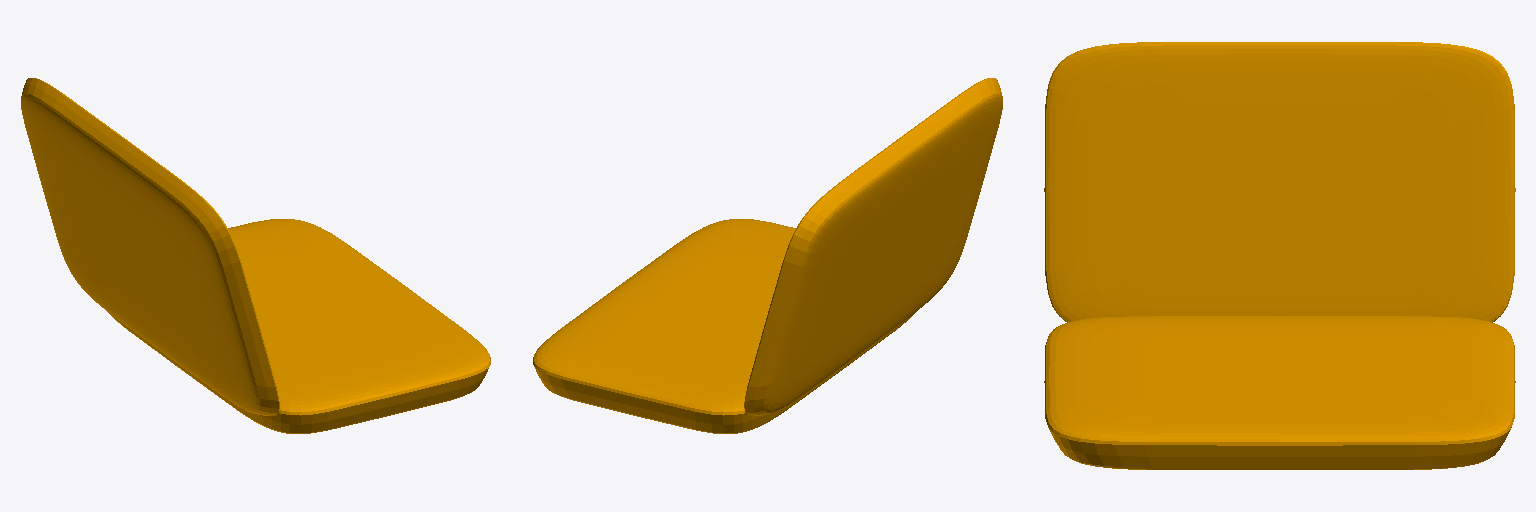
The robot description file, URDF, robot "object_441205746":

		<robot name="object_441205746">
			<link name="link_object_441205746">
				<visual>
					<geometry>
						<mesh filename="temp_object_441205746.obj" />
					</geometry>
				</visual>

				<collision>
					<geometry>
						<mesh filename="temp_object_441205746.obj" />
					</geometry>
				</collision>
				
				<inertial>
					<origin rpy="0 0 0" xyz="0 0 0"/>
					<mass value="0.3" />
					<inertia ixx="0.3" ixy="0" ixz="0" iyy="0.3" iyz="0" izz="0.3" />
				</inertial>
			</link>
		</robot>
		

--- Render facts (derived) ---
The picture shows the robot from 3 angles, left to right: view 1: azimuth 30°, elevation 25°; view 2: azimuth 150°, elevation 25°; view 3: azimuth 270°, elevation 25°; orthographic projection.
Model object_441205746 with 1 links and 0 joints (none), rooted at link_object_441205746, posed all joints at 0.
Visible links, largest first — view 1: link_object_441205746; view 2: link_object_441205746; view 3: link_object_441205746.
Link boxes in pixels (x1,y1,x2,y2): link_object_441205746: [21, 78, 490, 433]; link_object_441205746: [533, 78, 1002, 433]; link_object_441205746: [1044, 42, 1515, 469].
Size in the robot's own frame: 0.1694 by 0.2081 by 0.1384 metres.
Meshes: 1 distinct files referenced, 1 mesh visuals loaded (1 OBJ).
